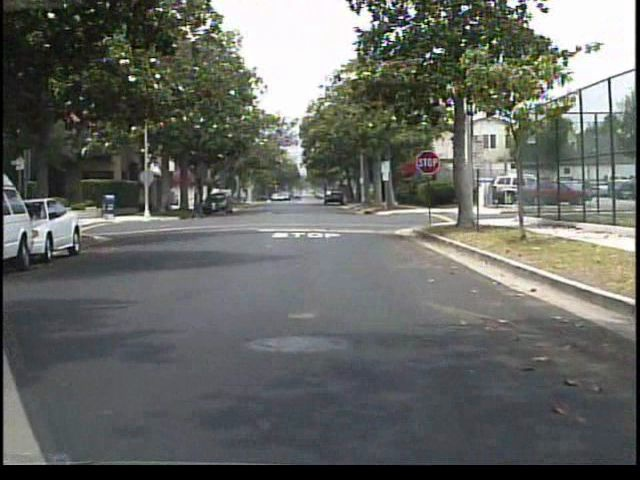person: (189, 179, 213, 221)
